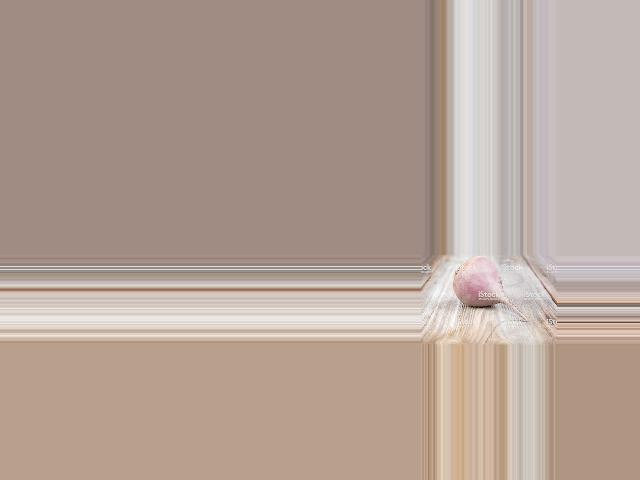beet: (453, 256, 528, 321)
